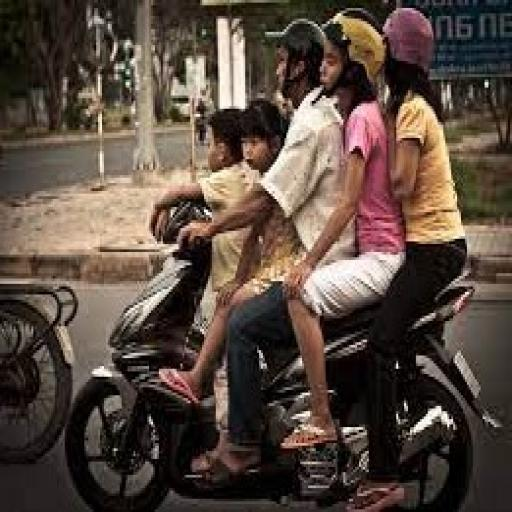helmet: (324, 8, 386, 82)
overloading: (63, 207, 504, 509)
